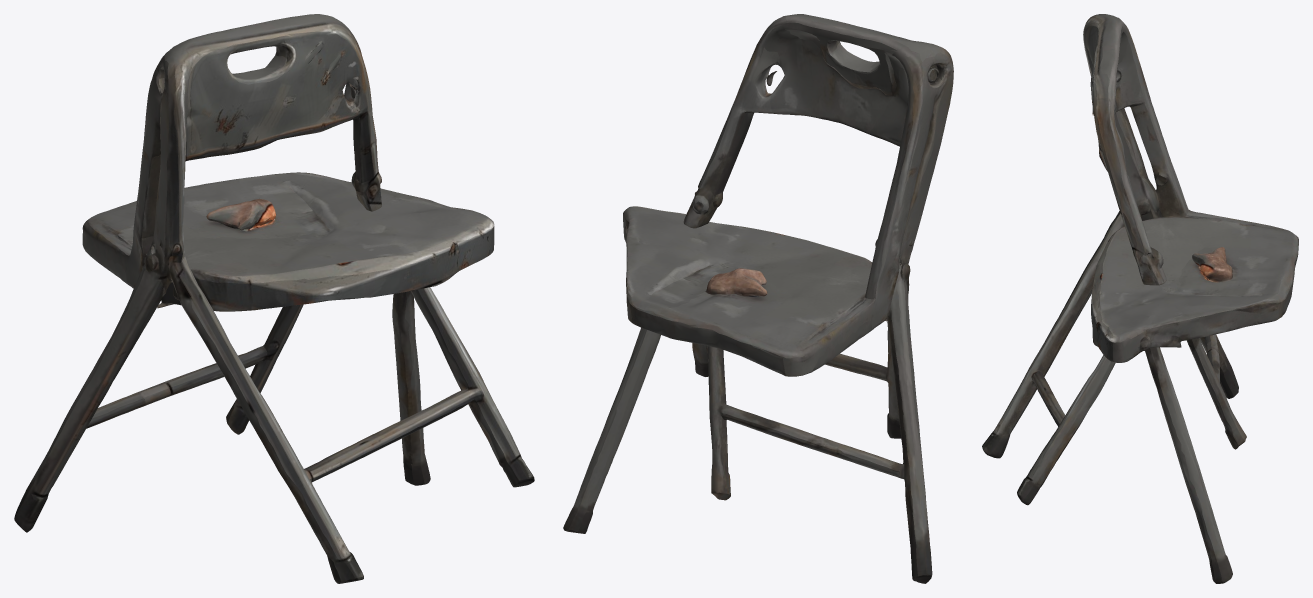
The model's file is chair_chunks.glb.
The picture shows the model from 3 angles, left to right: view 1: azimuth 30°, elevation 25°; view 2: azimuth 150°, elevation 25°; view 3: azimuth 270°, elevation 25°; orthographic projection. The views are drawn at different scales.
Parts seen in each view (by area): view 1: chunk2_shell, chunk0_shell, chunk4_shell, chunk3_shell; view 2: chunk2_shell, chunk4_shell, chunk3_shell, chunk0_shell; view 3: chunk2_shell, chunk4_shell, chunk0_shell, chunk3_shell.
Boxes of the visible parts, x1,y1,x2,y2 form: chunk2_shell: (14,14,431,532); chunk0_shell: (396,204,534,487); chunk4_shell: (210,194,442,485); chunk3_shell: (277,326,498,583); chunk2_shell: (626,14,953,583); chunk4_shell: (563,226,771,533); chunk3_shell: (694,343,901,438); chunk0_shell: (623,206,708,376); chunk2_shell: (1037,14,1298,398); chunk4_shell: (1086,316,1246,583); chunk0_shell: (1017,314,1154,505); chunk3_shell: (982,353,1089,490).
Bounding box in the file's own units: 0.6518 × 0.86 × 0.55.
1 material, 1 textured.
